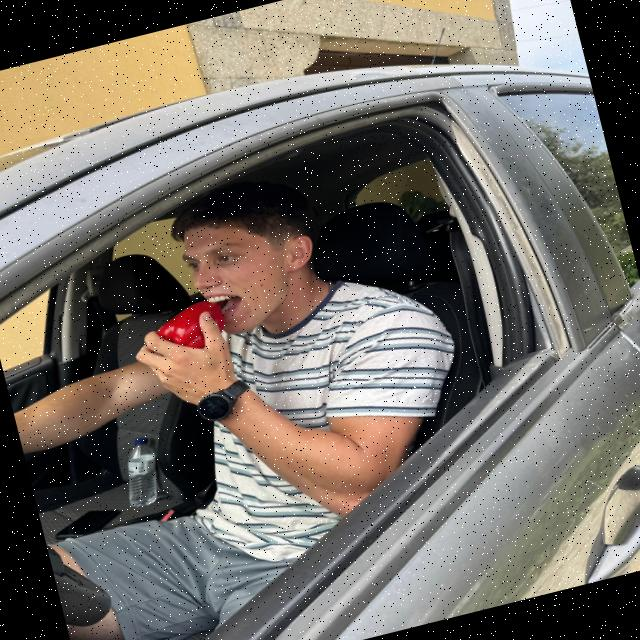Eating: (127, 271, 250, 387)
